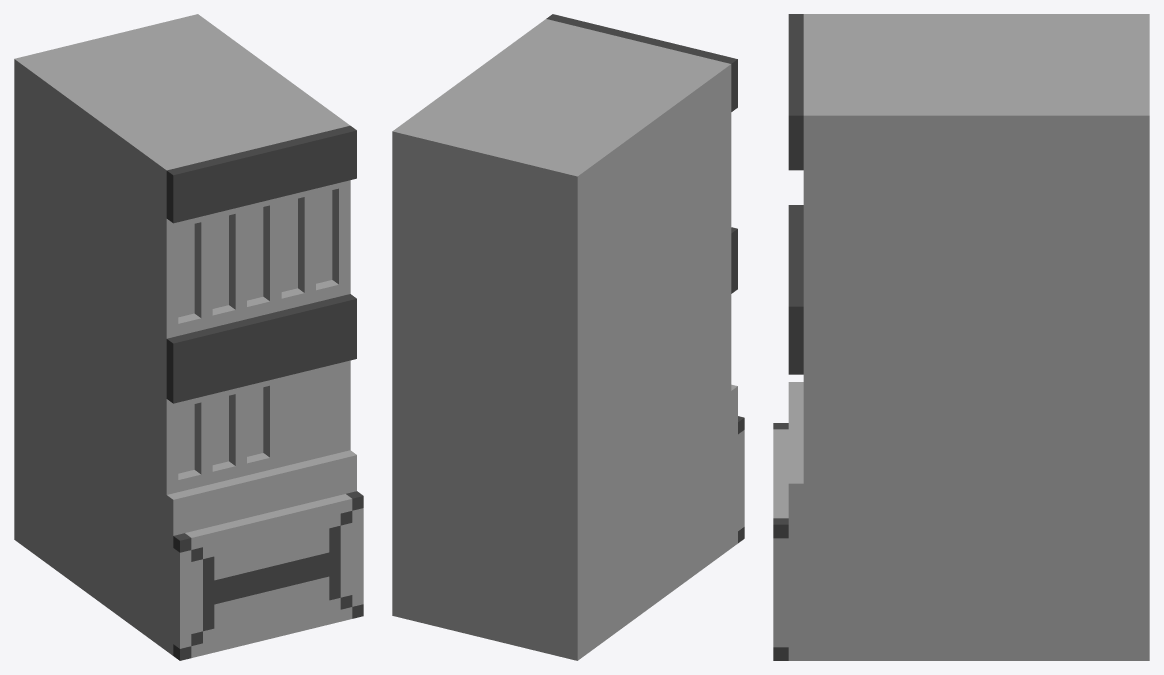
File: HouseGroup-1-SecondHouse.obj
3 renders of one model, left to right at view 1: azimuth 30°, elevation 25°; view 2: azimuth 150°, elevation 25°; view 3: azimuth 270°, elevation 25°, orthographic. The views are drawn at different scales.
Parts seen in each view (by area): view 1: SecondHouse; view 2: SecondHouse; view 3: SecondHouse.
Part boxes in pixels (left/top/right/bottom): SecondHouse: left=14, top=14, right=363, bottom=660; SecondHouse: left=392, top=14, right=744, bottom=660; SecondHouse: left=773, top=14, right=1149, bottom=660.
Size of the model in its own units: 3.2 by 8 by 5.
